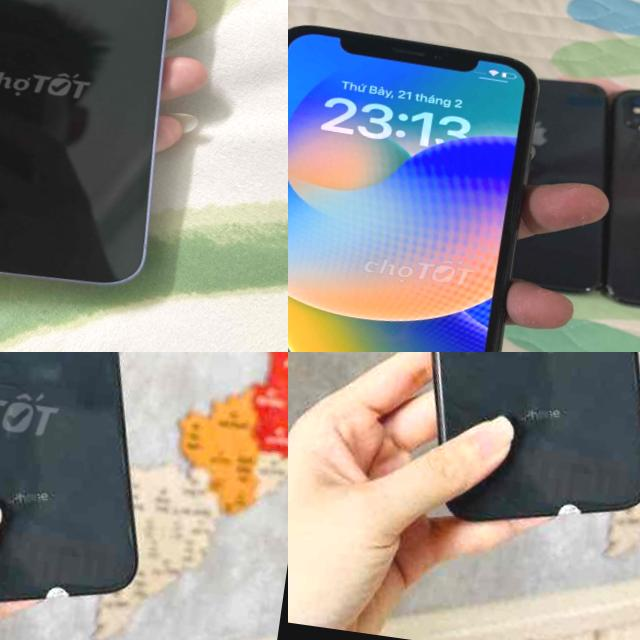gen_12_13: (0, 0, 205, 306)
gen_x_xs: (288, 0, 572, 352), (339, 352, 640, 566), (0, 352, 221, 640)
